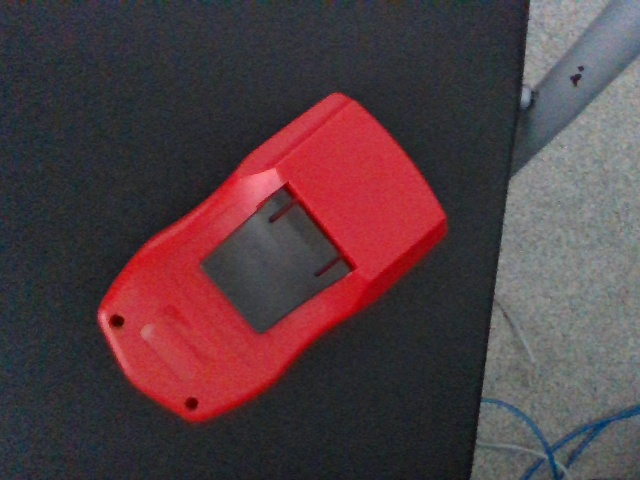multimeter: (98, 91, 451, 427)
screw hole: (108, 314, 124, 329), (186, 398, 199, 410)
